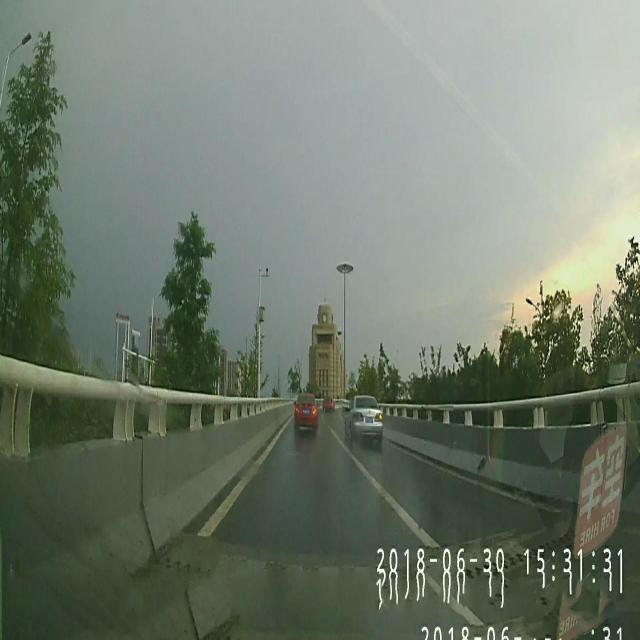car: (343, 394, 383, 451), (293, 392, 319, 434), (322, 393, 335, 414)
